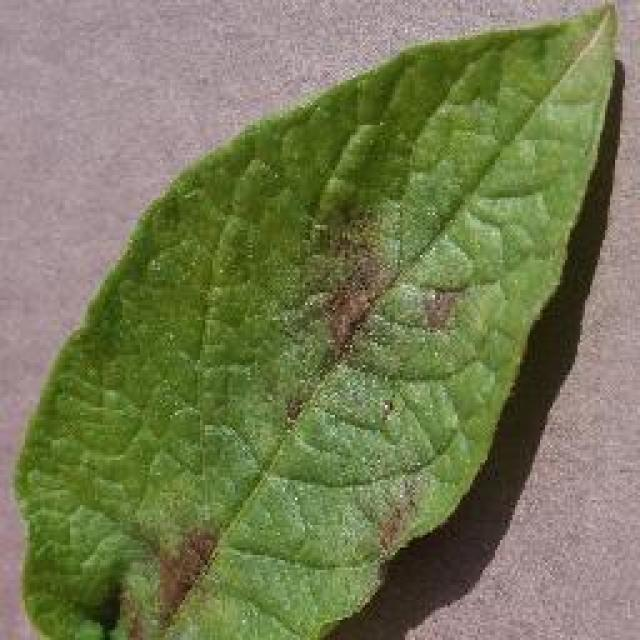late_blight: (7, 0, 625, 638)
